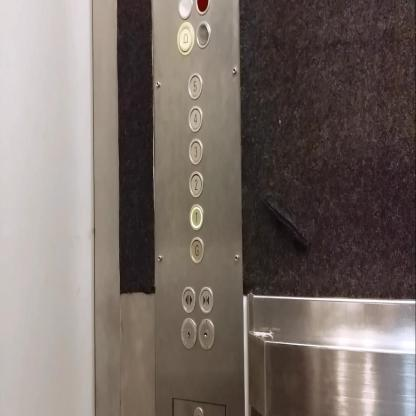1: (188, 203, 204, 228)
2: (188, 170, 203, 197)
3: (188, 138, 203, 166)
4: (188, 106, 202, 130)
5: (187, 71, 202, 99)
G: (189, 235, 205, 263)
alarm: (176, 21, 194, 55)
close: (198, 286, 213, 313)
empty: (196, 21, 210, 48)
keyhole: (180, 316, 196, 348), (198, 316, 214, 348)
open: (180, 284, 196, 312)
